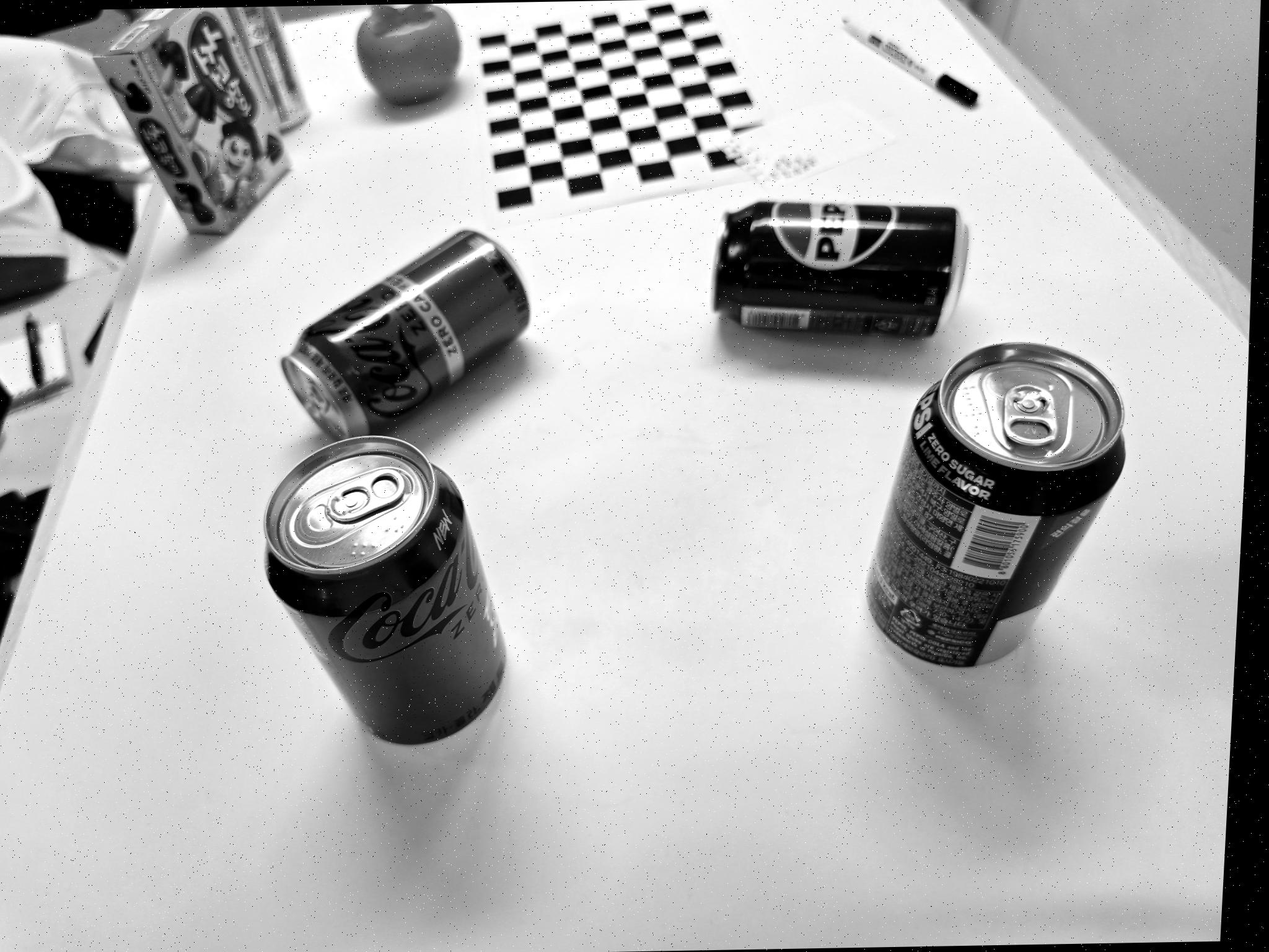can_coke_decaf: (281, 230, 530, 438)
can_coke_zero: (264, 436, 506, 744)
can_pepsi: (713, 201, 968, 336)
can_pepsi_zero: (867, 342, 1125, 666)
